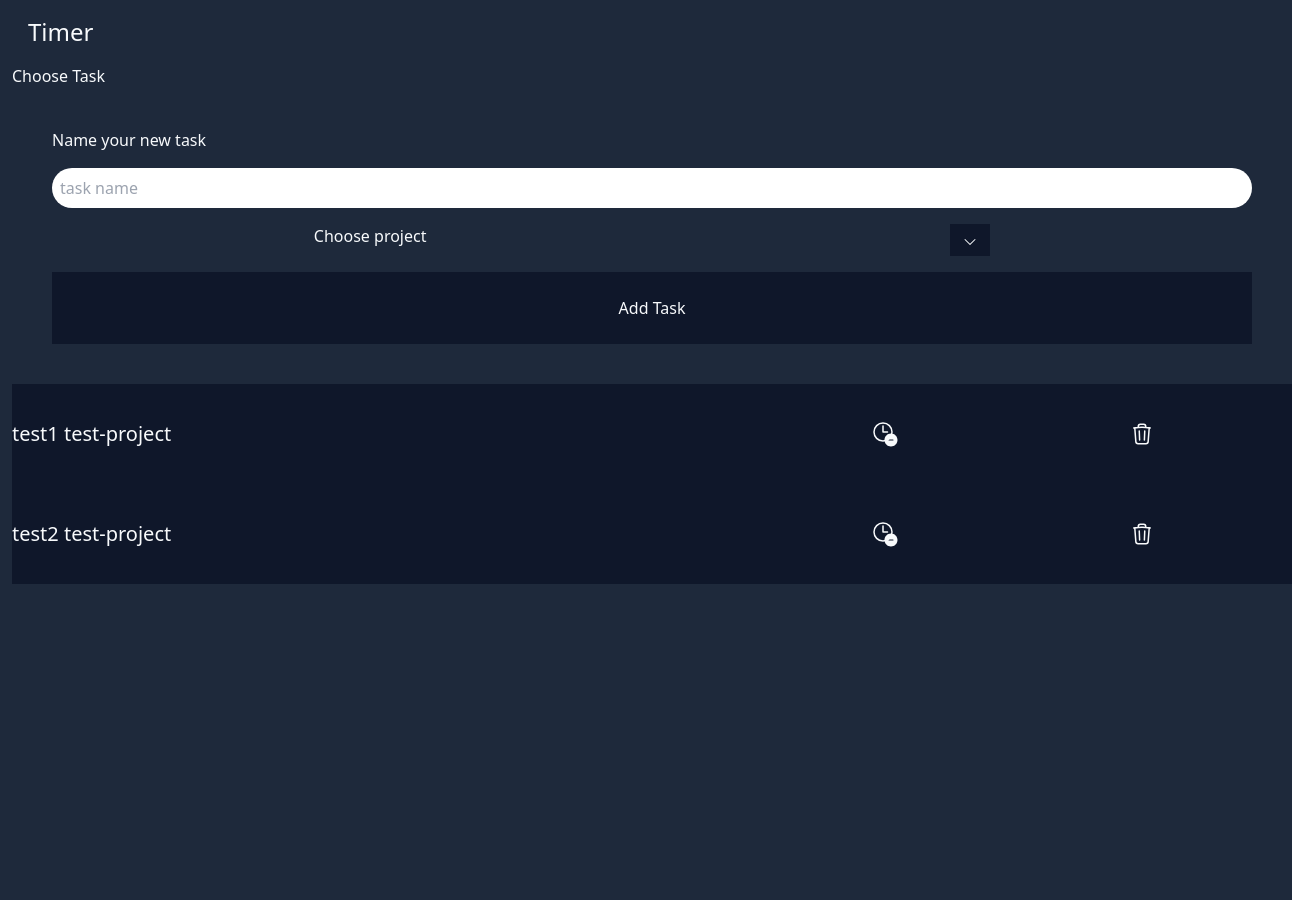
Selected task should appear in Timer › Time should start and display for selected item
Click the list item "test1 test-project" at (92, 434), box [12,420,171,447]
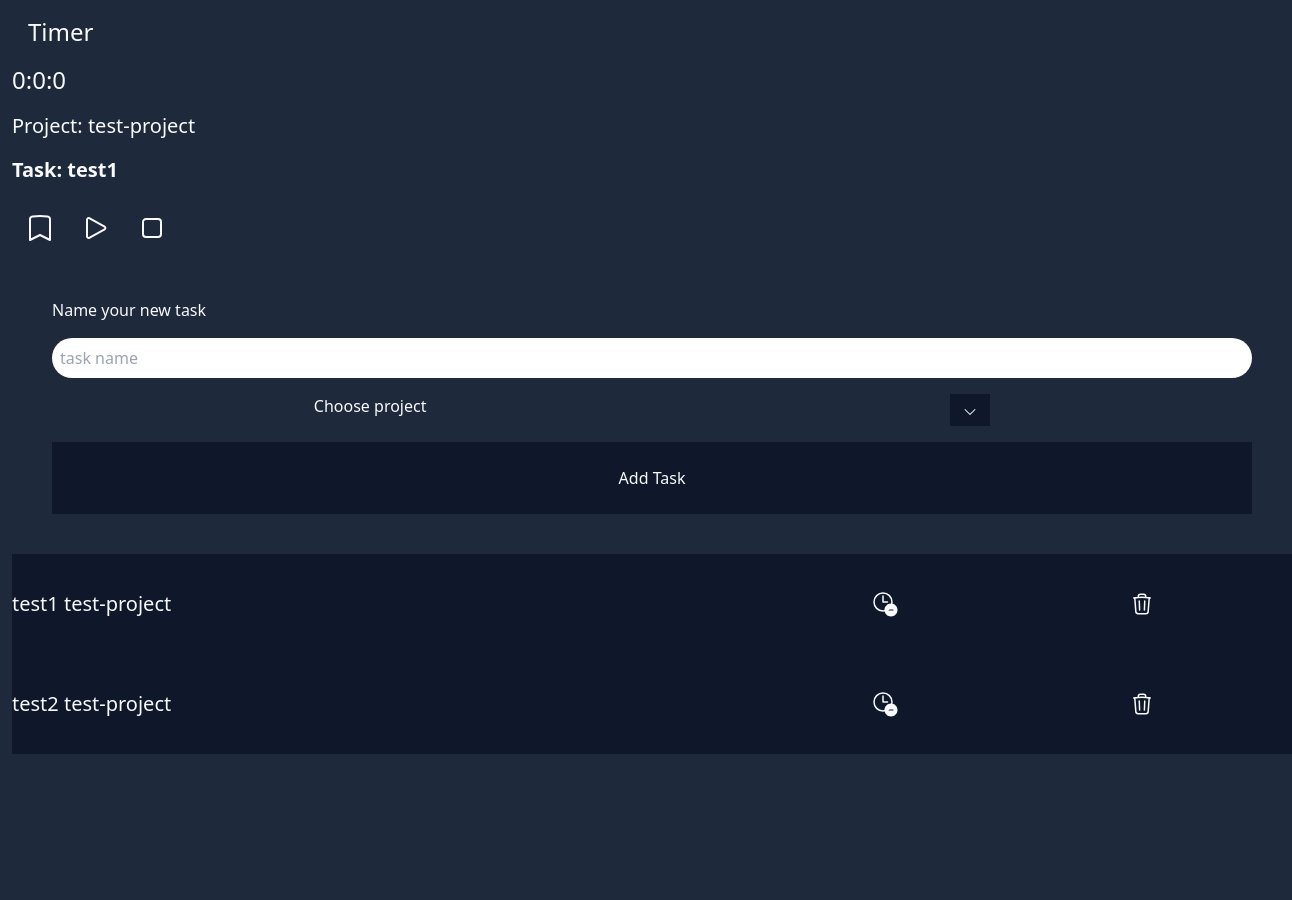
Expected: the heading with test id "selected-timerItem" shows "test1", [67,156,118,183]
Click the button with test id "play-button" at (96, 228), box [68,200,124,256]
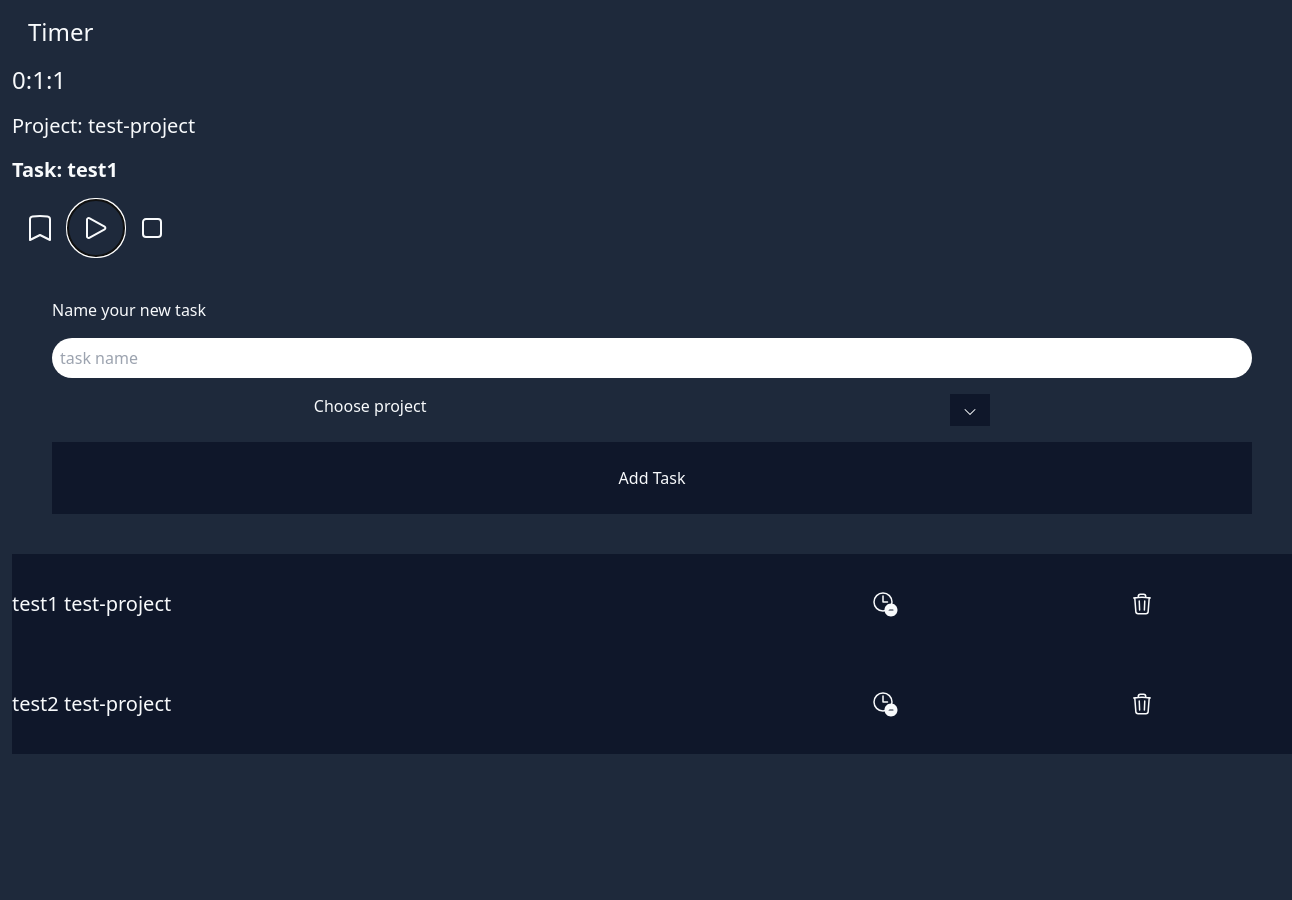
Expected: the heading "0:1:1" is shown, [12,63,66,96]
